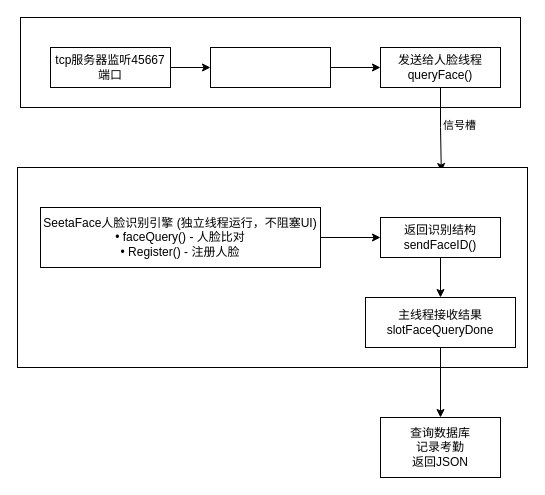
This 545x495 diagram has some shape labels left out. The box of each missing label's shape, as (x1, y1, x2, y2) in pixels:
主线程（MainThread): (20, 16, 520, 108)
人脸识别线程 (FaceThread): (16, 166, 528, 368)
接收图片数据，数据解析: (210, 46, 330, 88)
